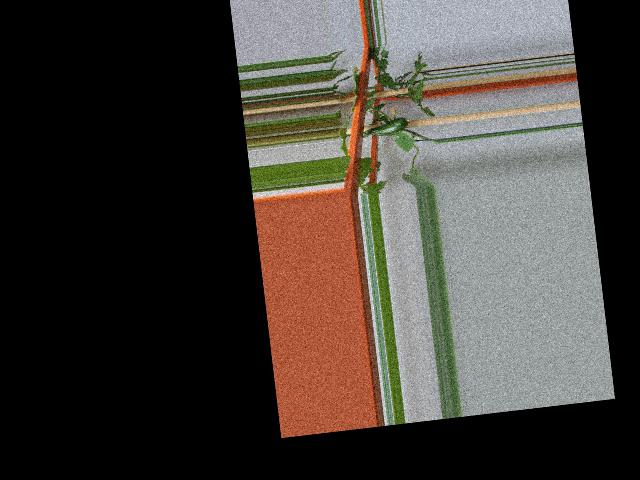cucumber: (368, 116, 412, 137)
